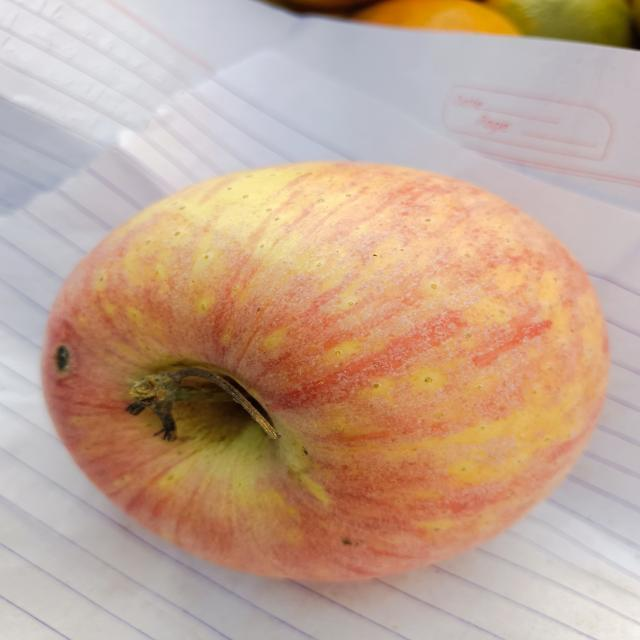Fresh Apple: (38, 157, 610, 579)
